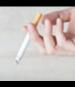Cigarette: (15, 11, 42, 63)
